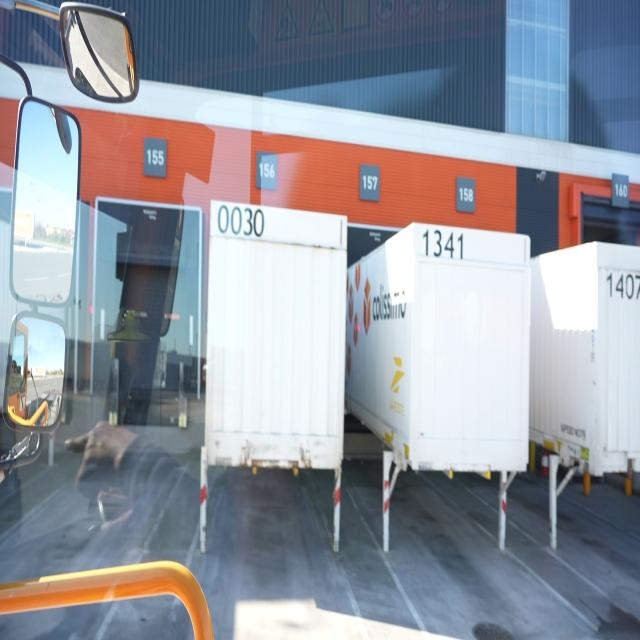Code: (213, 201, 268, 242), (418, 224, 469, 266), (605, 263, 640, 304)
